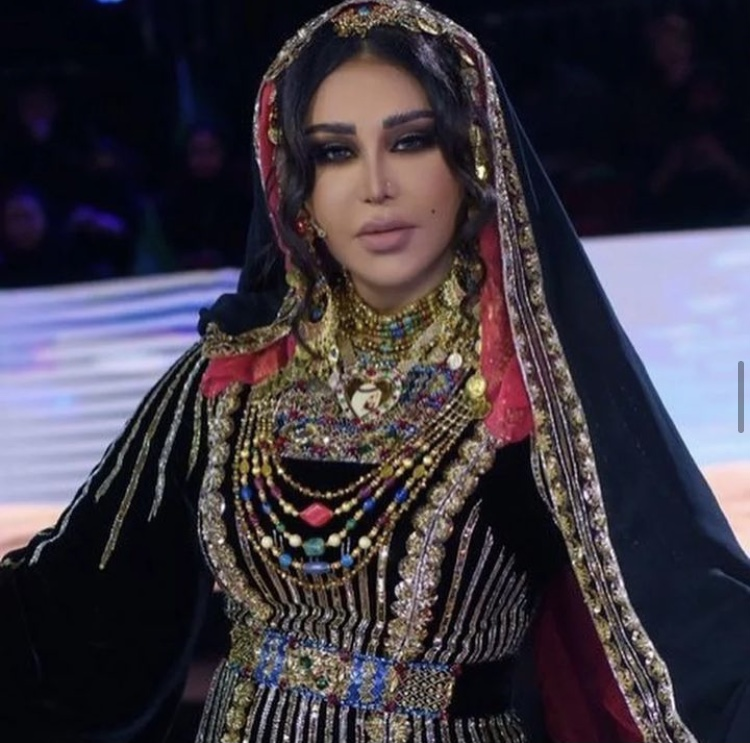Saudi_Founding_Day: (1, 2, 750, 743)
